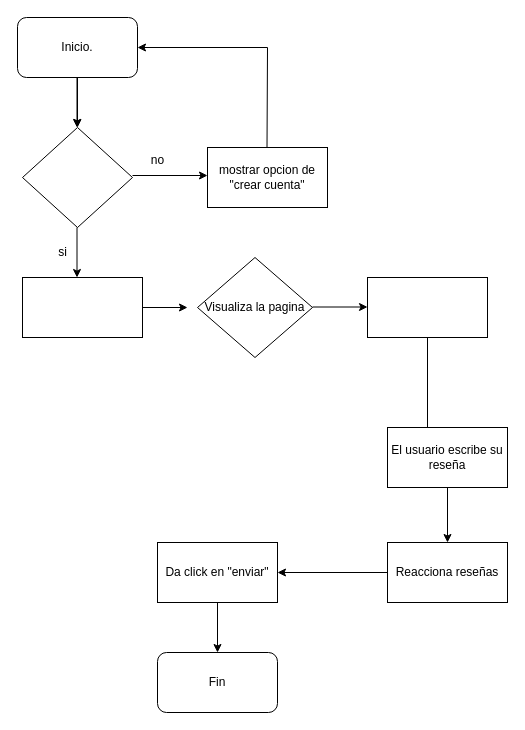
Image size: 525x730. Some labels were removed from this diagram. Each missing label, with the centre of its shape:
Accede a la pagina: (x=82, y=307)
Muestra funcionalidades: (x=427, y=307)
¿El usuario tiene cuenta?: (x=77, y=177)
